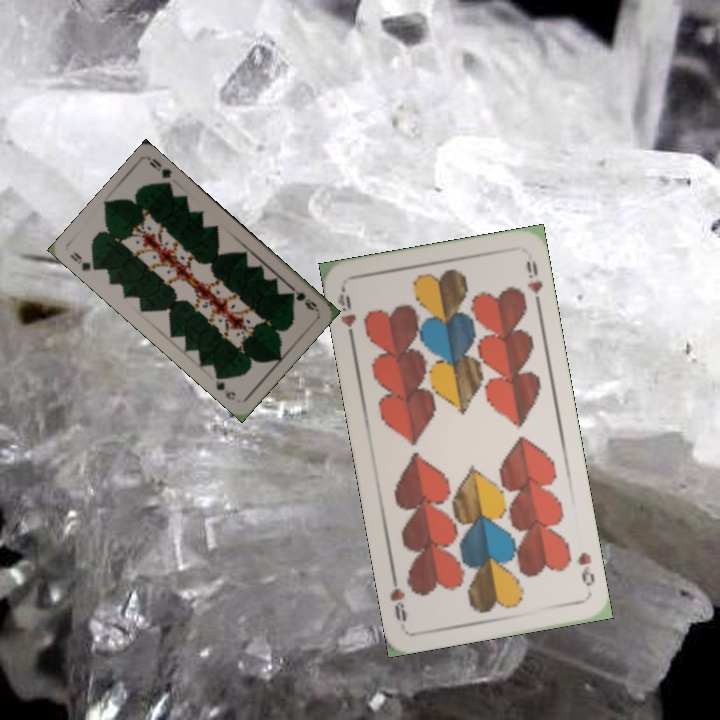G9: (285, 282, 320, 313), (66, 248, 103, 274)
H9: (333, 284, 359, 343), (573, 548, 598, 589)
